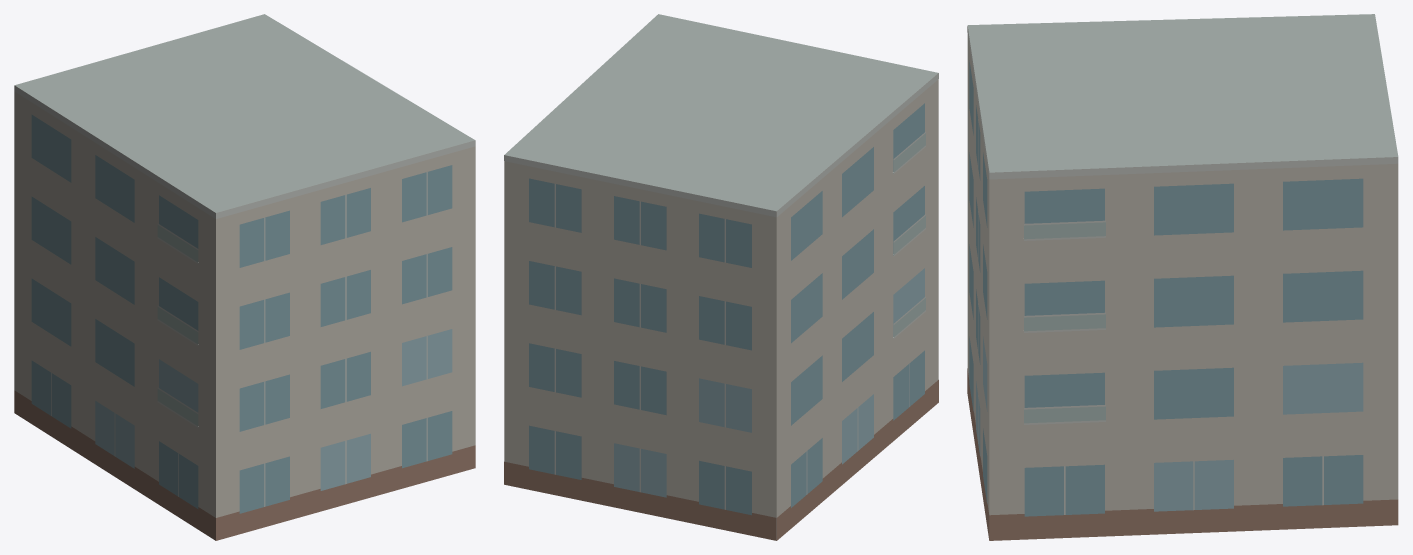
File: survey-upis-32739103.glb
3 views of the same model, side by side, from view 1: azimuth 30°, elevation 25°; view 2: azimuth 150°, elevation 25°; view 3: azimuth 270°, elevation 25° (orthographic). The views are drawn at different scales.
Parts seen in each view (by area): view 1: survey-upis-32739103.tmp; view 2: survey-upis-32739103.tmp; view 3: survey-upis-32739103.tmp.
Boxes of the visible parts, x1,y1,x2,y2 form: survey-upis-32739103.tmp: [14, 14, 475, 540]; survey-upis-32739103.tmp: [504, 14, 938, 540]; survey-upis-32739103.tmp: [967, 14, 1398, 540].
Size of the model in its own units: 12.21 by 13.2 by 14.01.
